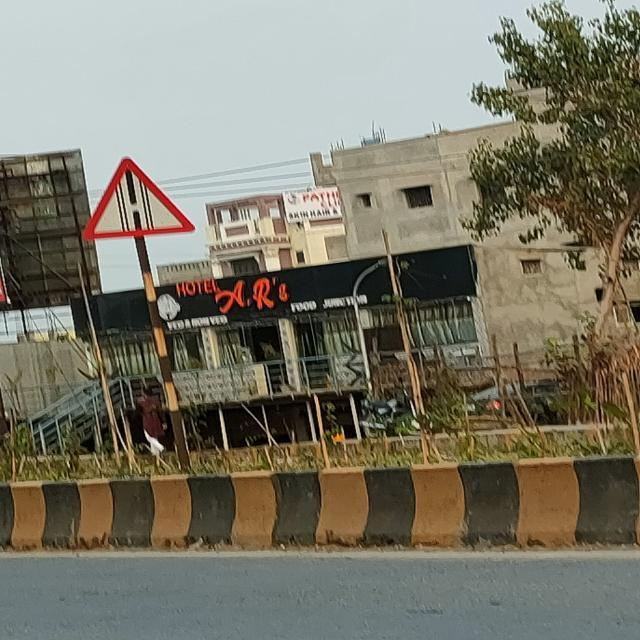gap in median: (77, 154, 204, 245)
